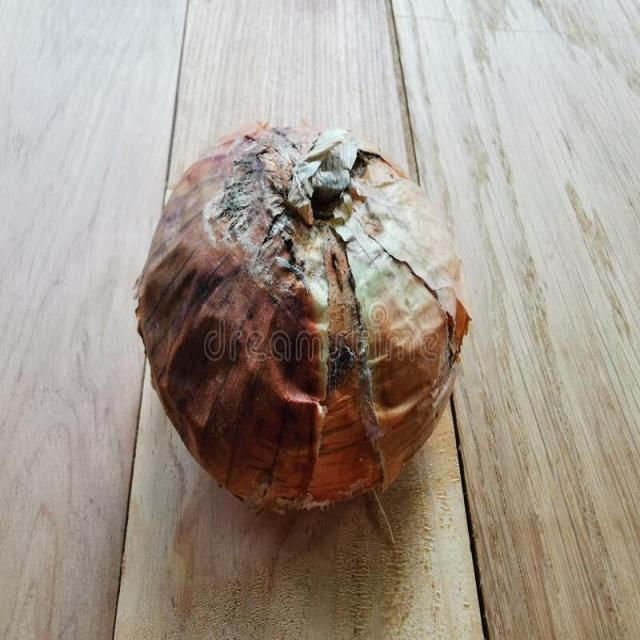Onion: (142, 117, 462, 536)
